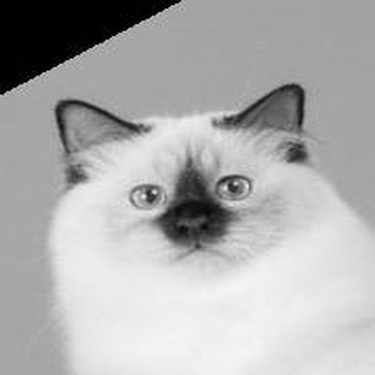cat: (52, 75, 369, 369)
